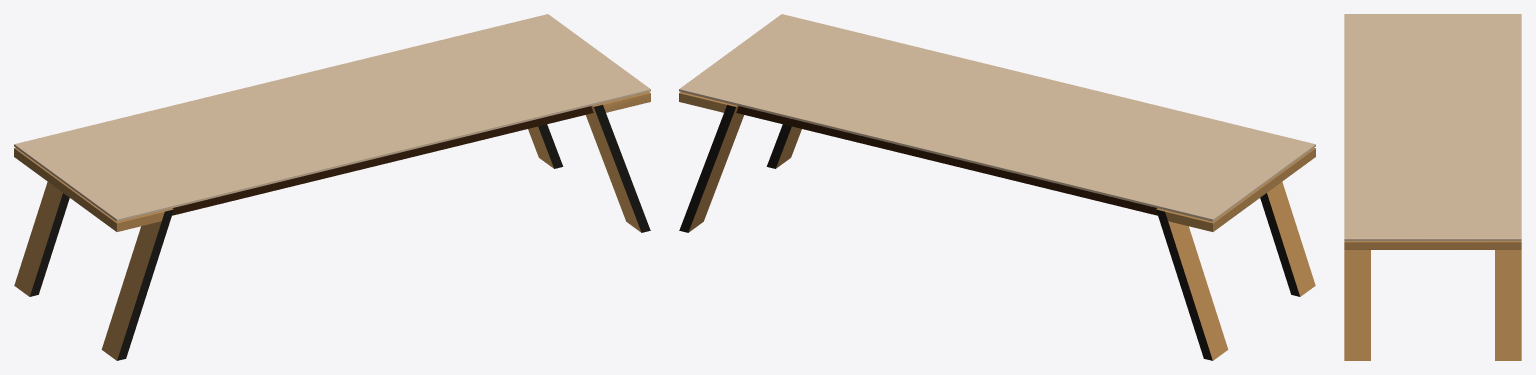
3 renders of one model, left to right at view 1: azimuth 30°, elevation 25°; view 2: azimuth 150°, elevation 25°; view 3: azimuth 270°, elevation 25°, orthographic. The views are drawn at different scales.
Visible parts, largest first — view 1: _3DGeom_270_Defintion (×3), _3DGeom_139_Defintion, _3DGeom_156_Defintion, _3DGeom_225_Defintion, _3DGeom_17_Defintion_1, _3DGeom_158_Defintion, _3DGeom_18, _3DGeom_208_Defintion, _3DGeom_227_Defintion; view 2: _3DGeom_270_Defintion (×3), _3DGeom_139_Defintion, _3DGeom_225_Defintion, _3DGeom_156_Defintion, _3DGeom_35_Defintion_1, _3DGeom_227_Defintion, _3DGeom_36, _3DGeom_208_Defintion, _3DGeom_158_Defintion; view 3: _3DGeom_270_Defintion (×4), _3DGeom_17_Defintion_1, _3DGeom_35_Defintion_1, _3DGeom_86, _3DGeom_85, _3DGeom_85_Defintion_1.
Boxes of the visible parts, x1,y1,x2,y2 form: _3DGeom_270_Defintion (×3): (14,14,650,221); _3DGeom_139_Defintion: (172,106,593,215); _3DGeom_156_Defintion: (101,221,161,360); _3DGeom_225_Defintion: (14,182,62,296); _3DGeom_17_Defintion_1: (586,106,641,232); _3DGeom_158_Defintion: (117,209,173,360); _3DGeom_18: (594,105,650,232); _3DGeom_208_Defintion: (14,149,116,231); _3DGeom_227_Defintion: (30,193,69,296); _3DGeom_270_Defintion (×3): (679,14,1315,221); _3DGeom_139_Defintion: (736,106,1157,215); _3DGeom_225_Defintion: (1168,221,1228,360); _3DGeom_156_Defintion: (1267,182,1315,296); _3DGeom_35_Defintion_1: (688,106,743,232); _3DGeom_227_Defintion: (1156,209,1212,360); _3DGeom_36: (679,105,735,232); _3DGeom_208_Defintion: (1213,149,1315,231); _3DGeom_158_Defintion: (1260,193,1299,296); _3DGeom_270_Defintion (×4): (1344,14,1521,240); _3DGeom_17_Defintion_1: (1344,250,1370,360); _3DGeom_35_Defintion_1: (1495,250,1521,360); _3DGeom_86: (1344,242,1521,249); _3DGeom_85: (1344,241,1521,242); _3DGeom_85_Defintion_1: (1344,249,1521,249).
Bounding box in the file's own units: 118 × 39.37 × 29.92.
